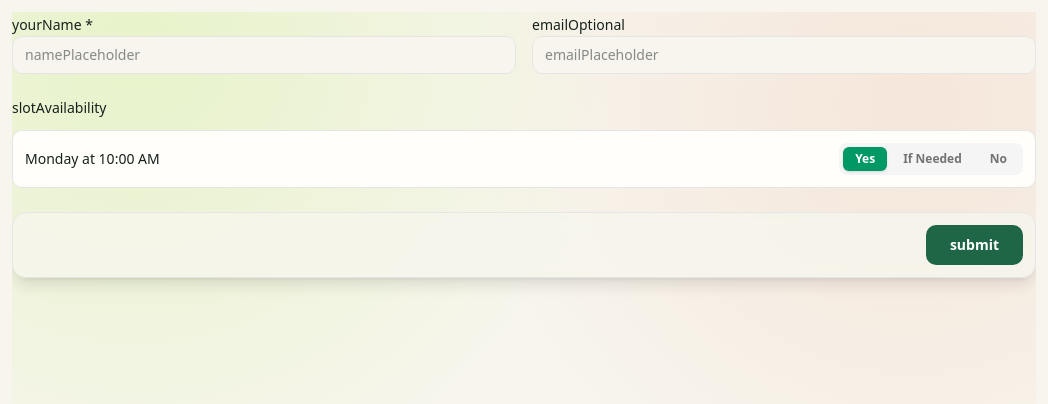
Test: PollVotingForm › announces a returned server-action failure
Step 1. Type "Alex" into the field labelled "yourName *" → (264, 55), box [12,36,516,74]
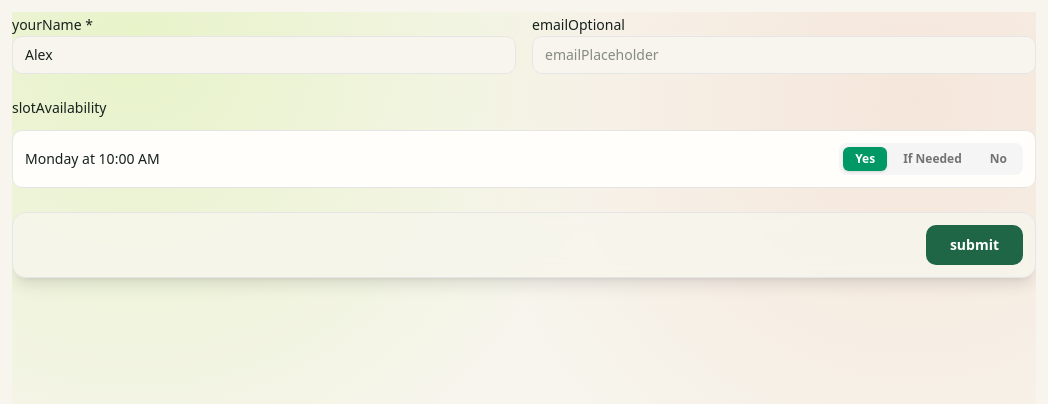
Step 2. Click the button "submit" → (974, 245), box [926,225,1023,265]
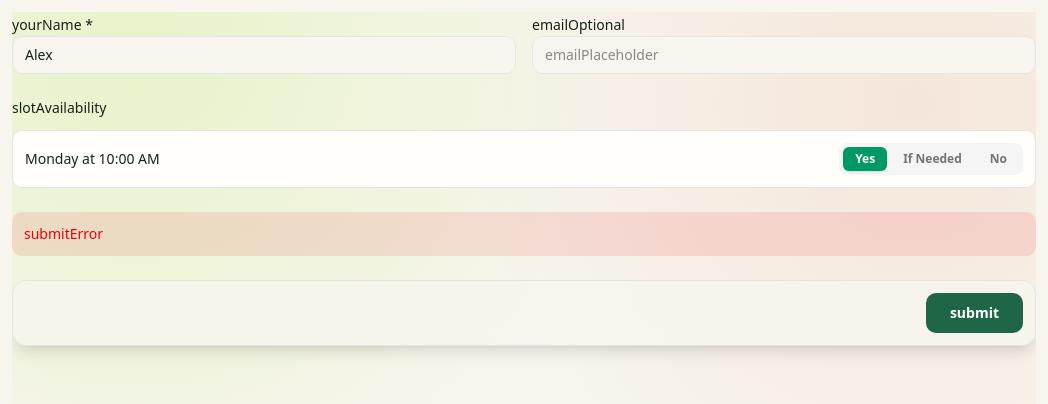
Result: the message reads "submitError" at [24,224,103,243]
